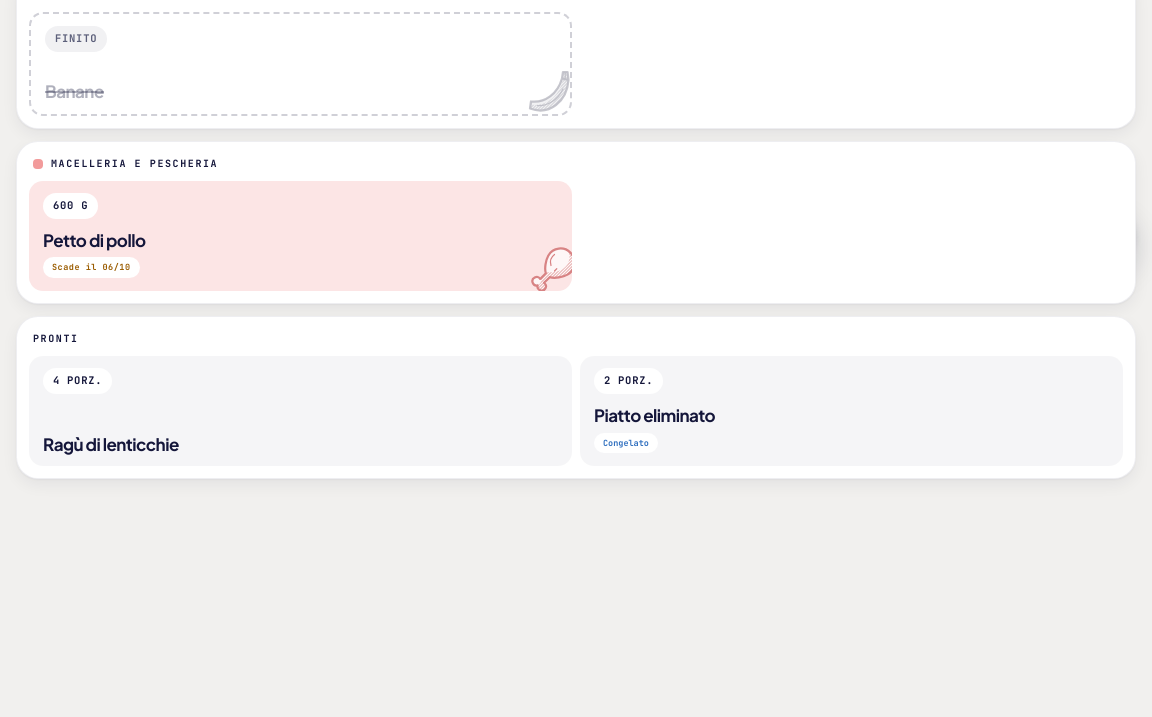
Test: Dispensa: il lotto › le impegnate del lotto: solo i pasti di oggi o dopo, dello stesso piatto; anche nel dialogo di eliminazione
(page scrolled)
Expected: the button with aria-label "Apri Petto di pollo" is shown, [29,181,572,291]
What coordinates should you click on to do the following:
click the button with aria-label "Apri il lotto di Ragù di lenticchie"
I would click on:
 (78, 381)
Its box is [29,356,572,466].
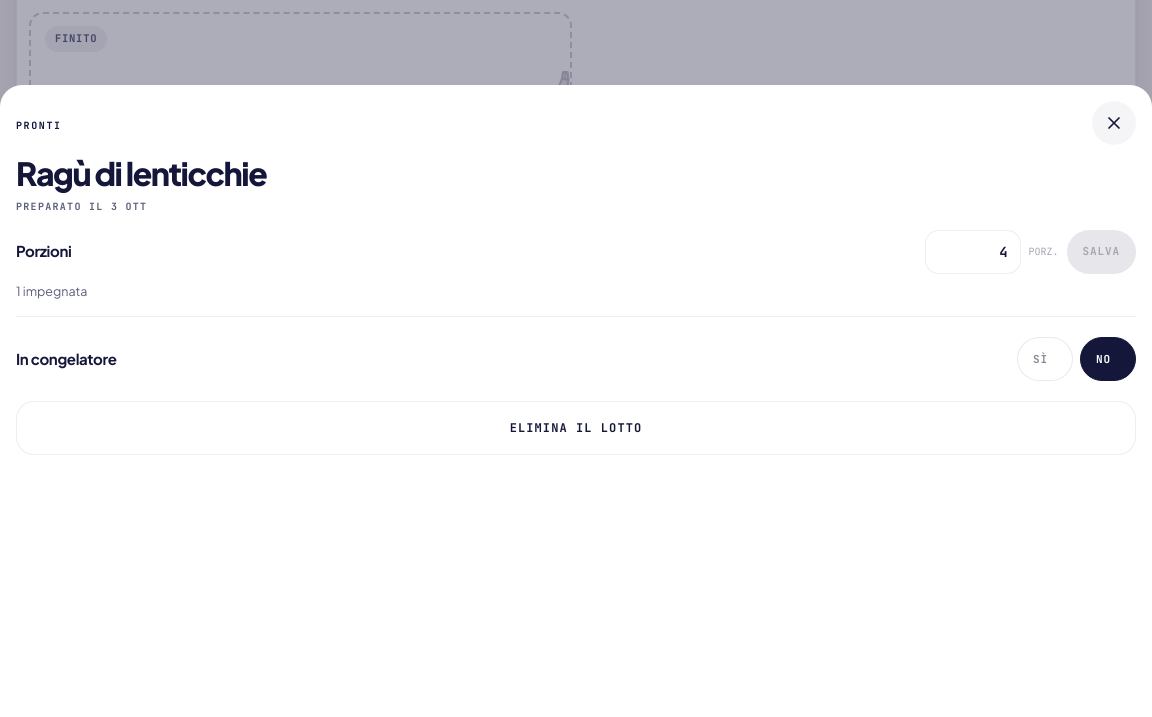
Expected: the text "1 impegnata" is shown, [16,283,87,299]
What coordinates should you click on to do the following:
click the button with aria-label "Elimina il lotto di Ragù di lenticchie"
I would click on:
 (576, 428)
Its box is [16,401,1136,455].
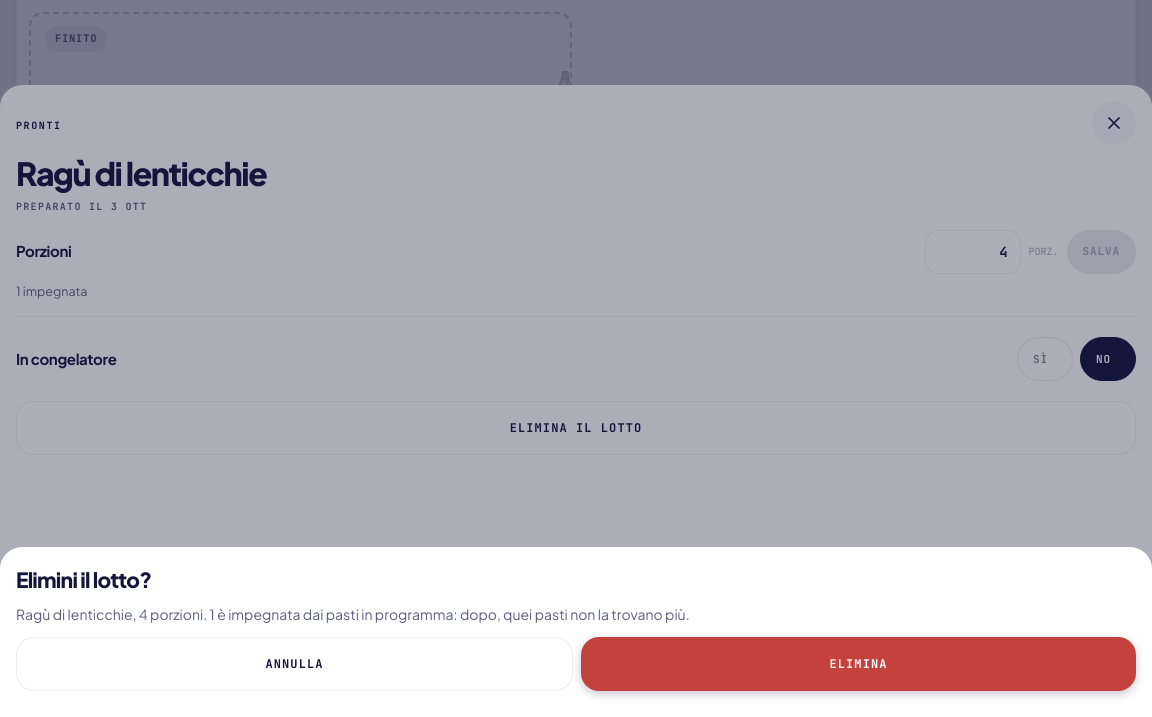
Expected: the text "Ragù di lenticchie, 4 porzioni. 1 è impegnata dai pasti in programma: dopo, quei pasti non la trovano più." is shown, [16,605,690,623]
